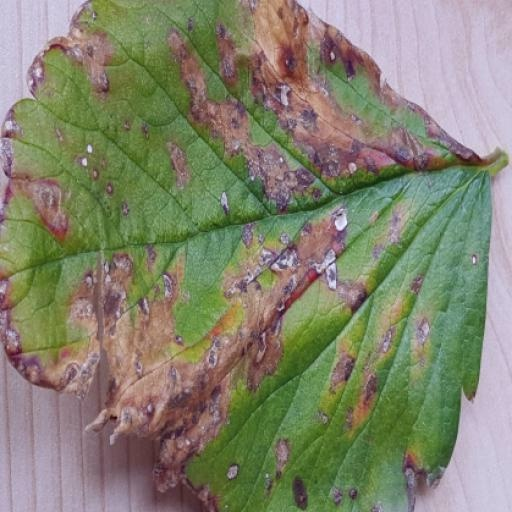Angular Leafspot: (20, 0, 511, 511)
